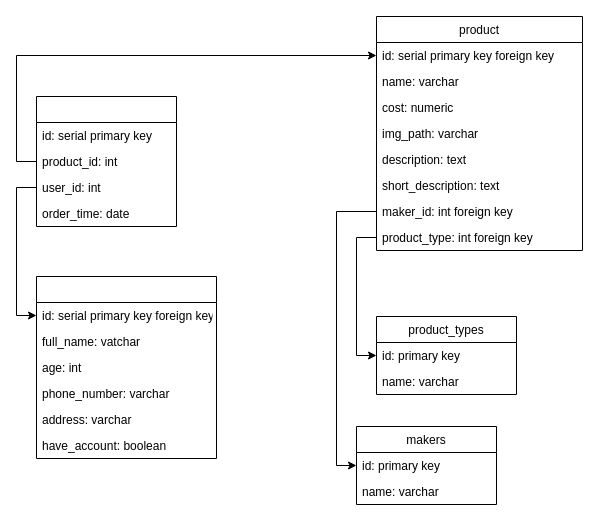
Image size: 599x521. Some labels were removed from this diagram. The box of each missing label's shape, as (x1, y1, x2, y2) in pixels:
orders: (36, 96, 176, 226)
users: (36, 276, 216, 458)
